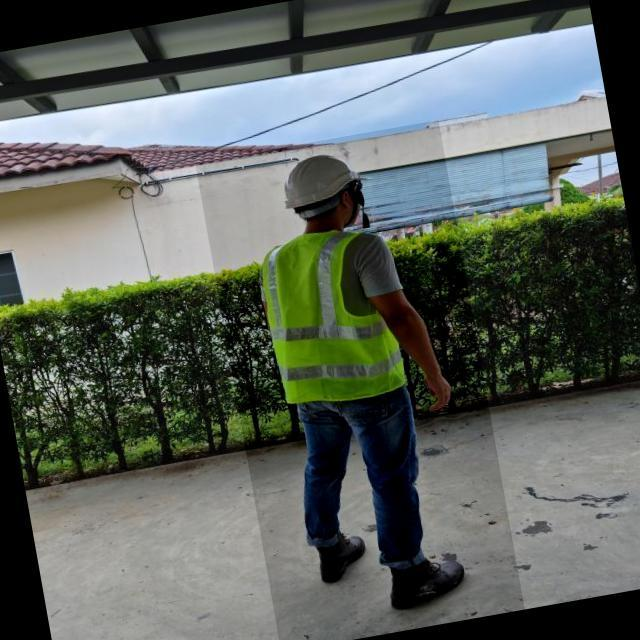Helmet: (273, 144, 369, 221)
Person: (227, 104, 513, 640)
Safety Boot: (381, 549, 474, 613), (303, 530, 374, 590)
Safety Vest: (251, 215, 415, 415)
bare-arms: (415, 364, 469, 429)
